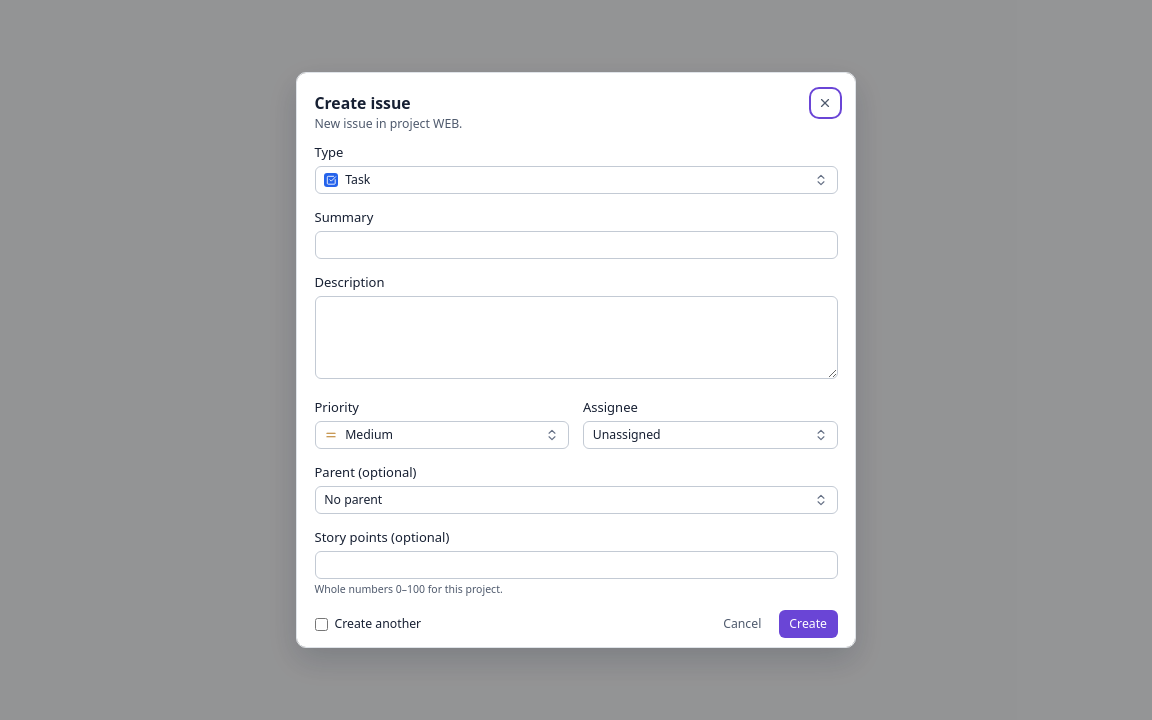
Test: CreateIssueDialog › focuses summary after client validation failure
Click the button "Create": {"x": 808, "y": 624} [779, 610, 838, 638]
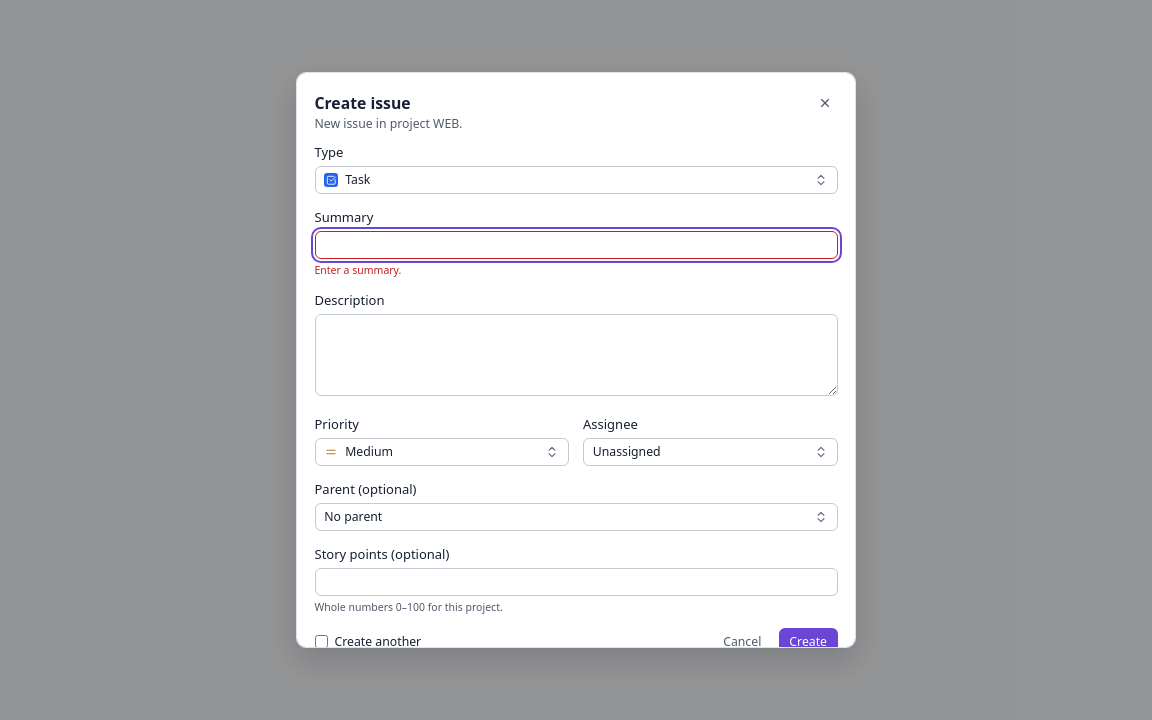
Check: the text "Enter a summary." is shown, box [314, 262, 401, 276]
